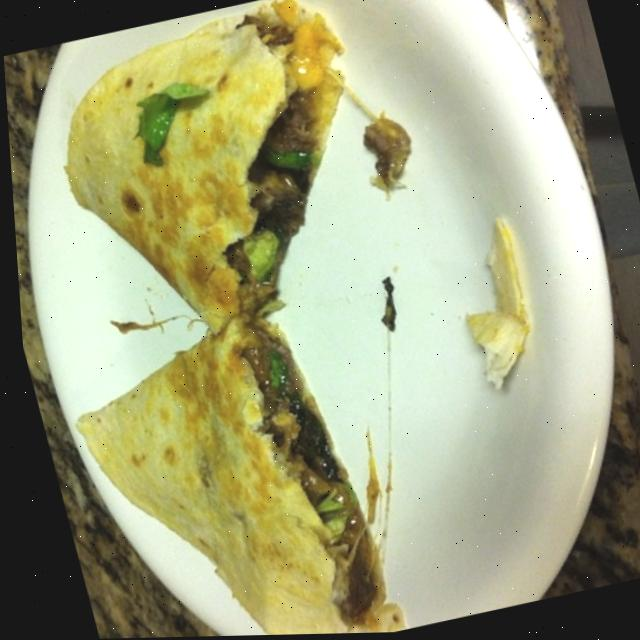面包点心: (0, 0, 520, 640)
